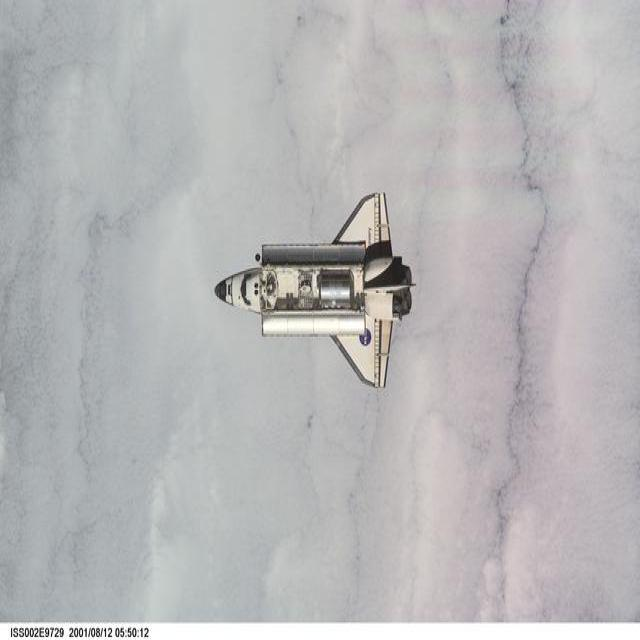medium_debris: (215, 192, 412, 385)
